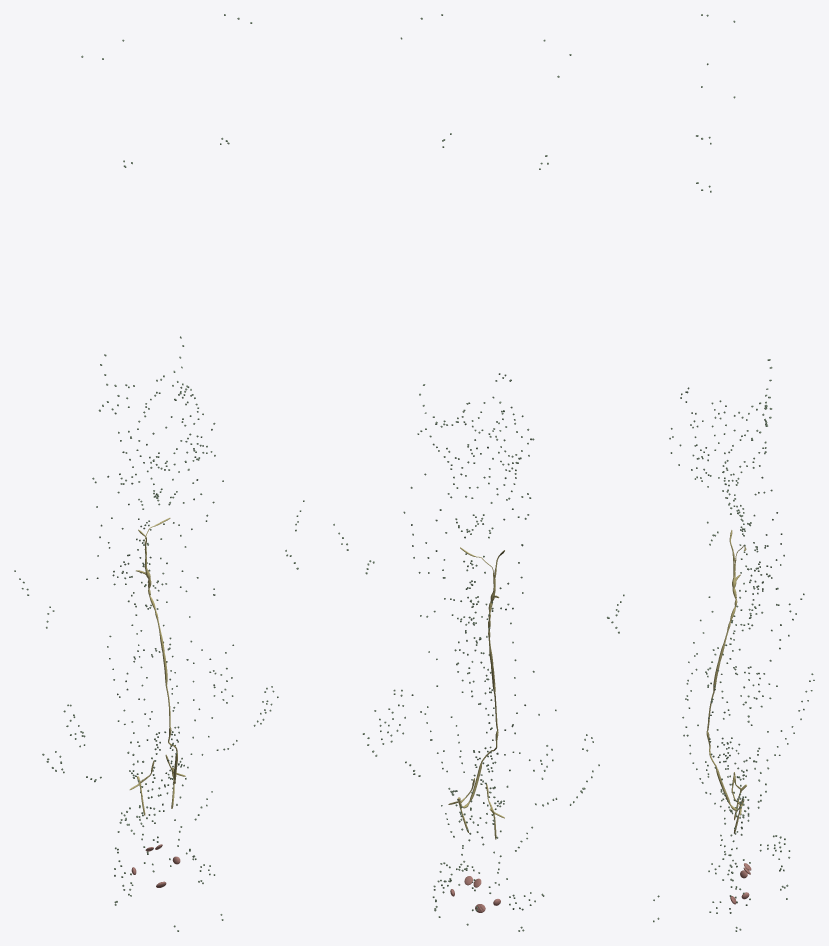
The model's file is lymphatic.glb.
The picture shows the model from 3 angles, left to right: view 1: azimuth 30°, elevation 25°; view 2: azimuth 150°, elevation 25°; view 3: azimuth 270°, elevation 25°; orthographic projection.
Parts seen in each view (by area): view 1: no part large enough to name; view 2: no part large enough to name; view 3: ZA_Thoracic_duct.
Boxes of the visible parts, left/top/right/bottom form: ZA_Thoracic_duct: left=706, top=597, right=744, bottom=810.
Size of the model in its own units: 438 by 1269 by 213.
